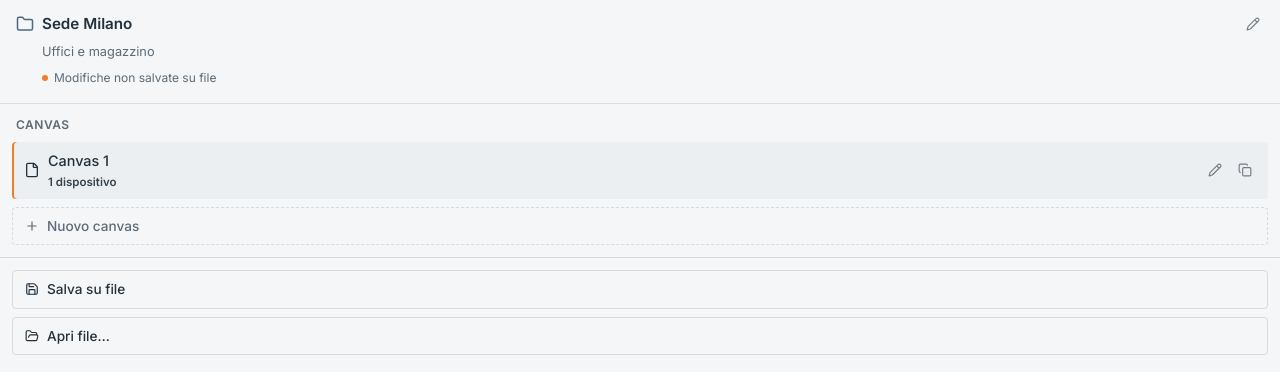
it: ExplorerPanel › file › "Salva su file" saves the project and the hint goes away
Click the button "Salva su file": x=86, y=289 [12, 270, 1268, 309]
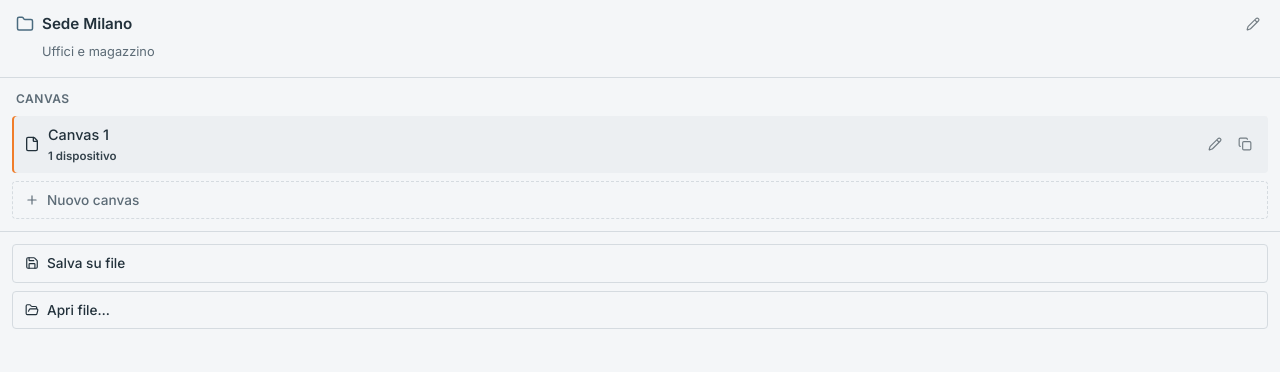
Expected: the text "Modifiche non salvate su file" is gone
